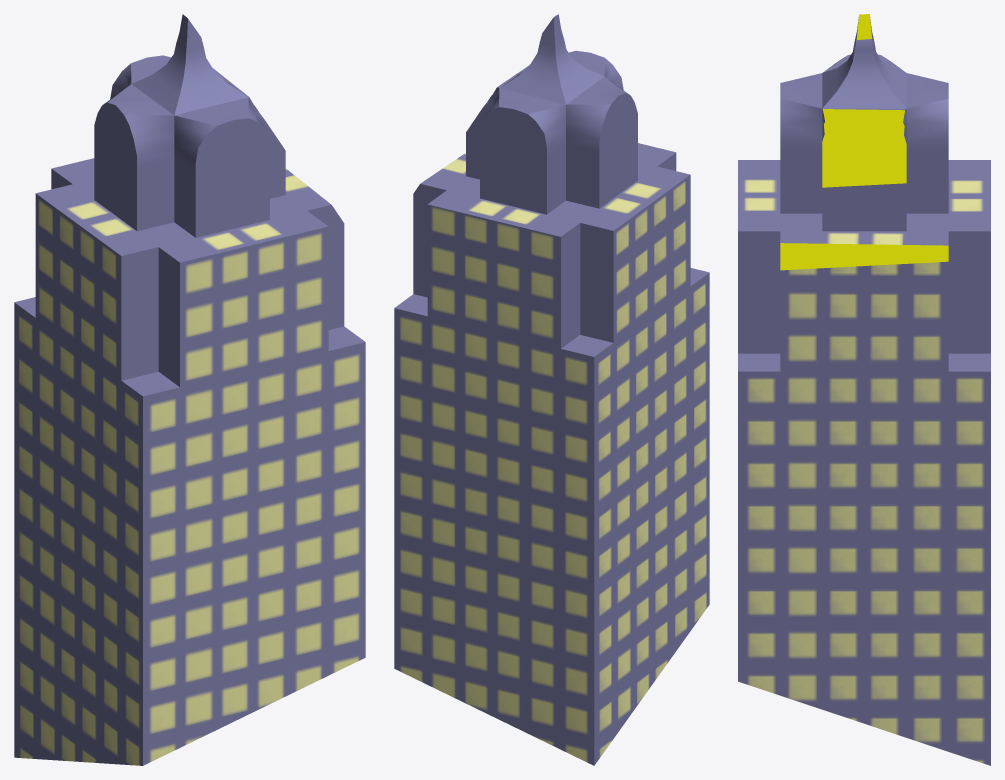
The model's file is CB1Shard2.fbx.
3 views of the same model, side by side, from view 1: azimuth 30°, elevation 25°; view 2: azimuth 150°, elevation 25°; view 3: azimuth 270°, elevation 25° (orthographic). The views are drawn at different scales.
Parts seen in each view (by area): view 1: shard8; view 2: shard8; view 3: shard8.
Boxes of the visible parts, box(x1,y1,x2,y2) form: shard8: box(14, 14, 365, 765); shard8: box(394, 14, 709, 765); shard8: box(738, 14, 990, 765).
Bounding box in the file's own units: 0.0715 × 0.2337 × 0.0715.
Materials: 2 (1 with a texture image).
